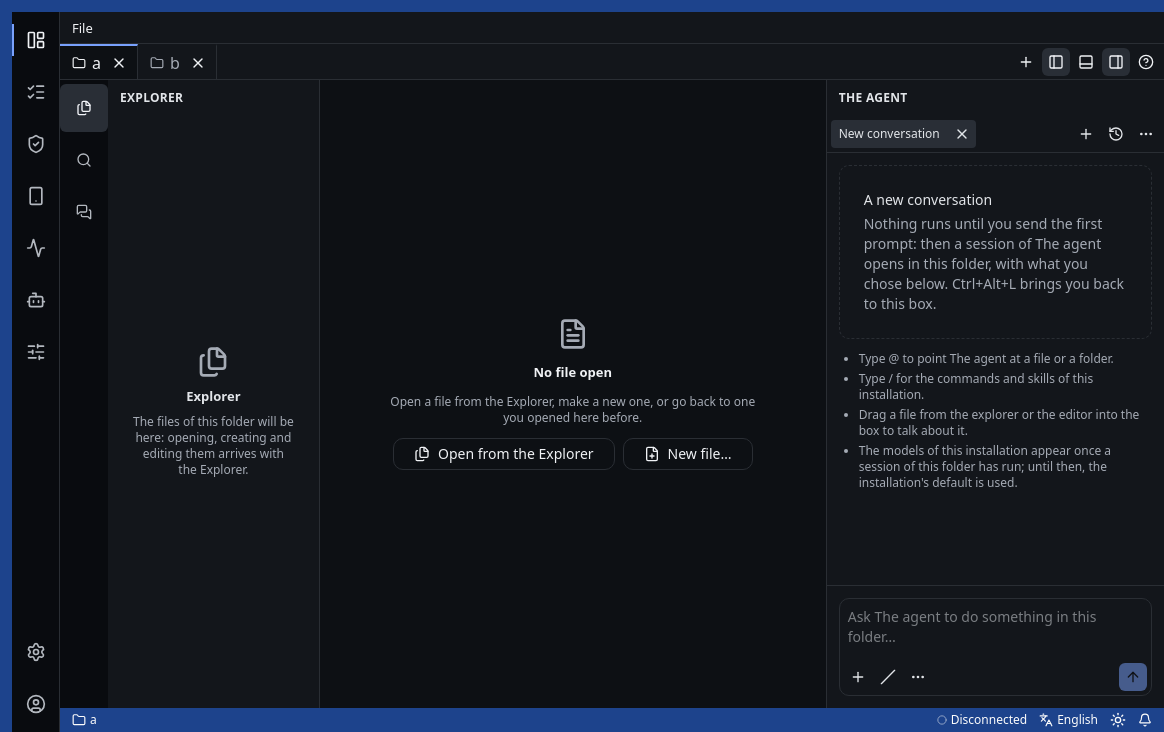
Test: the side bar and the panel, opened and closed › toggles the side bar and the bottom panel of the tab from the top of the workbench
Click the button named "Show or hide the side bar" at (1056, 62), box top-left (1042, 48), bottom-right (1070, 76)
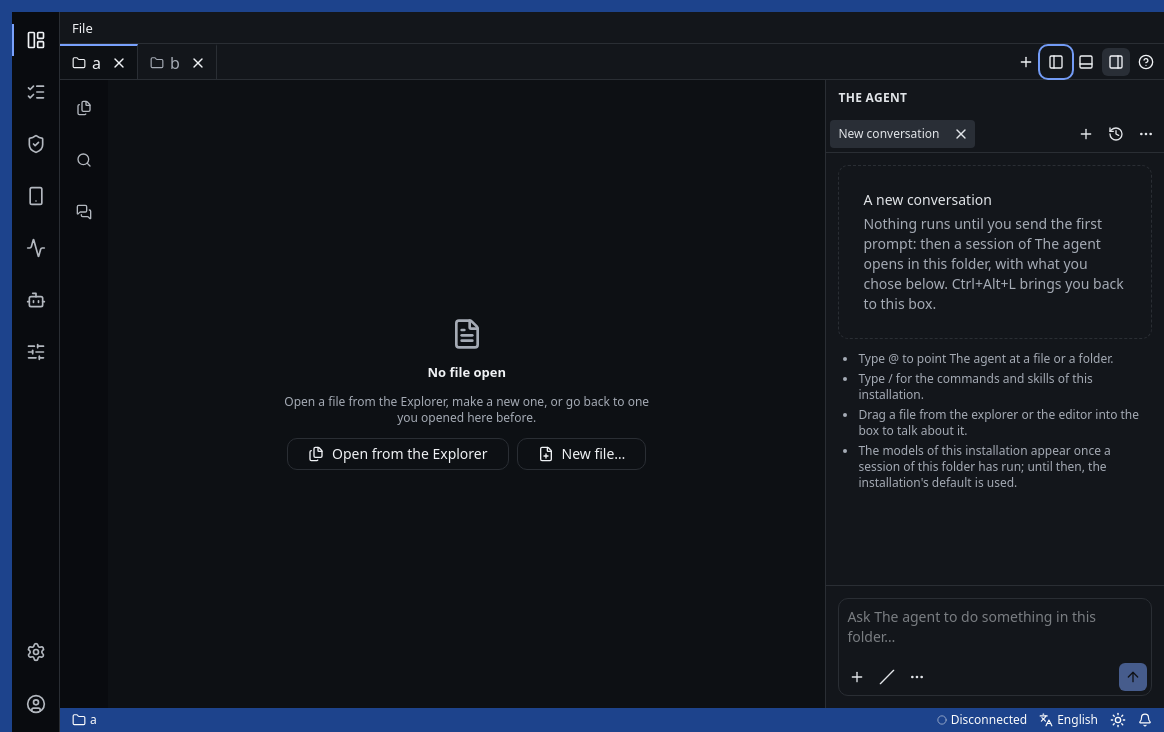
Click the button named "Show or hide the panel" at (1086, 62), box top-left (1072, 48), bottom-right (1100, 76)
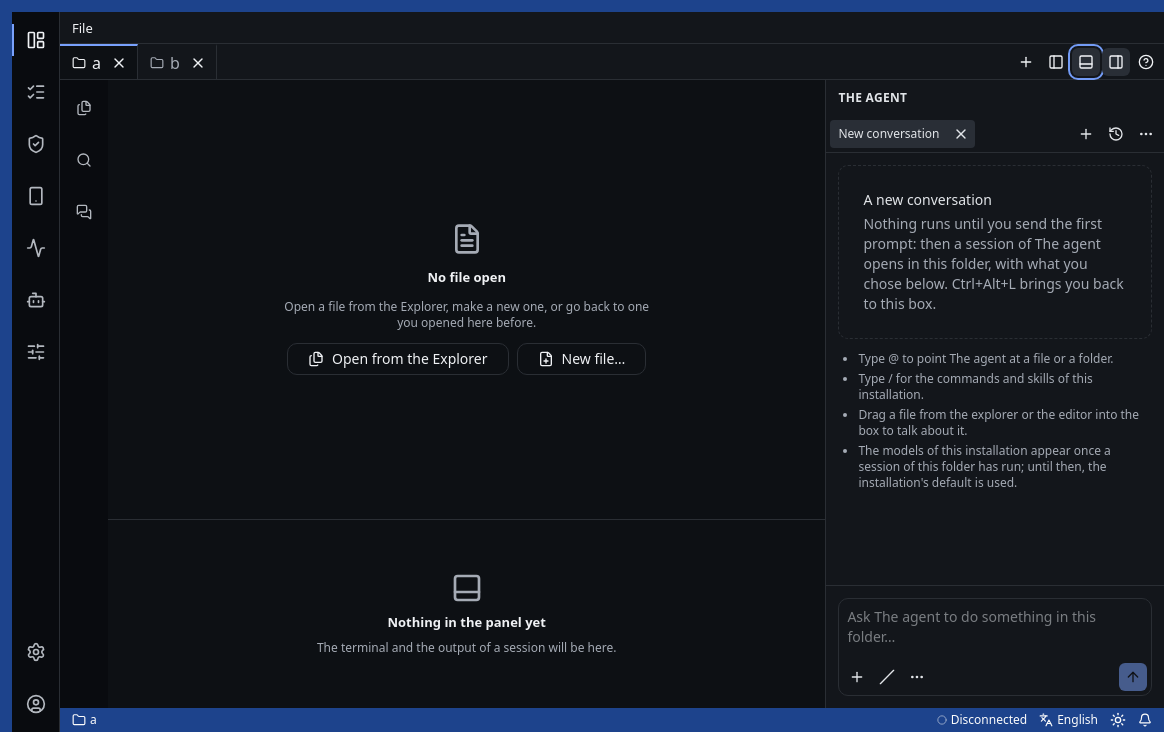
expect the element "panel" is shown: met, box top-left (108, 520), bottom-right (825, 708)
expect the text "Nothing in the panel yet" is shown: met, box top-left (388, 612), bottom-right (546, 632)
Click the button named "Show or hide the side bar" at (1056, 62), box top-left (1042, 48), bottom-right (1070, 76)
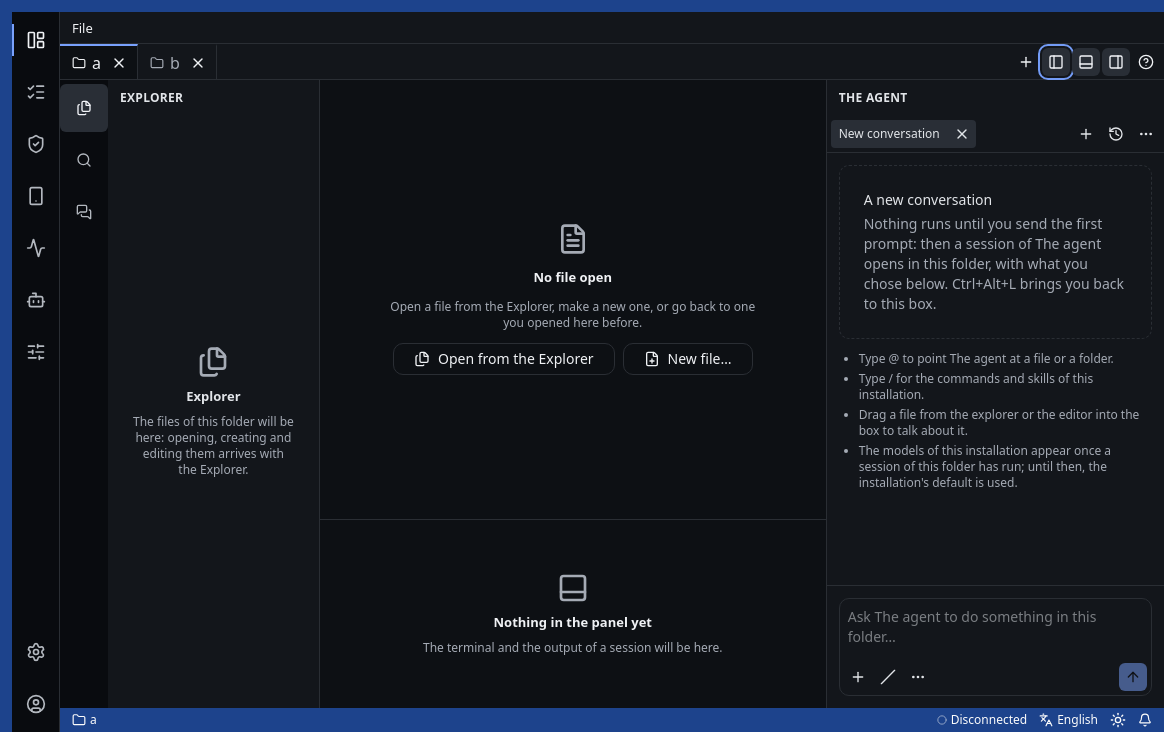
expect the element "Explorer" is shown: met, box top-left (108, 80), bottom-right (319, 708)
